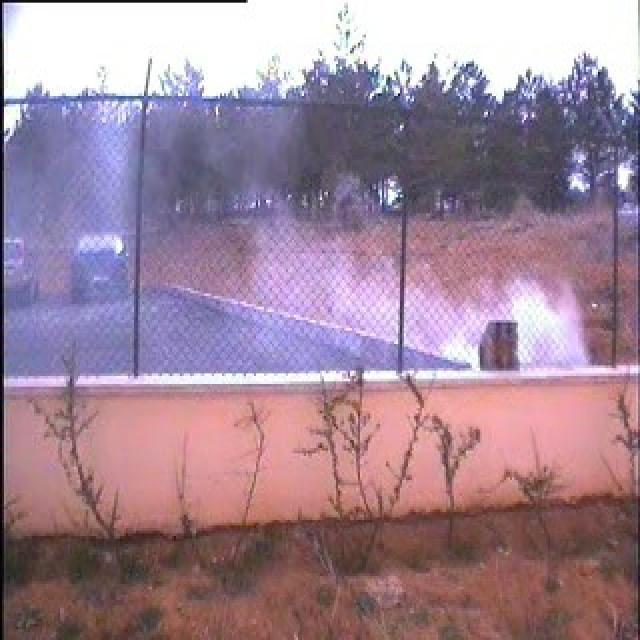Smoke: (252, 244, 591, 368)
